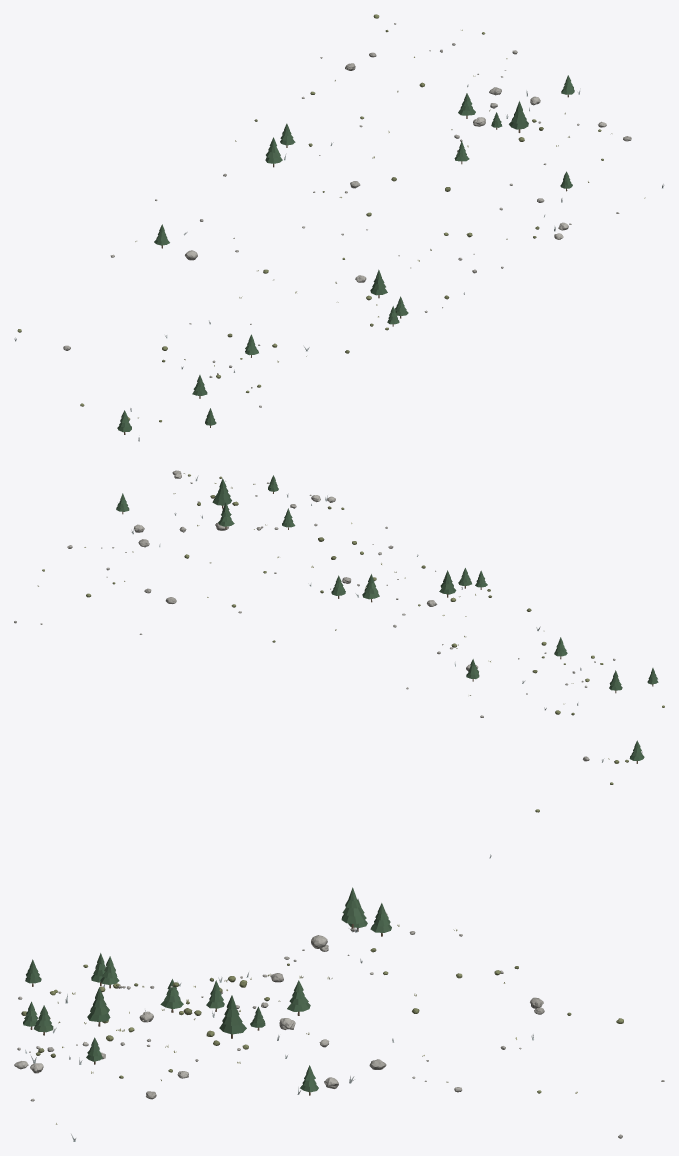
The model's file is coast_land_scatter_c10_15.glb.
The picture shows the model from 3 angles, top to bottom: view 1: azimuth 30°, elevation 25°; view 2: azimuth 150°, elevation 25°; view 3: azimuth 270°, elevation 25°; orthographic projection. The views are drawn at different scales.
Parts seen in each view (by area): view 1: coast_land_scatter_c10_15; view 2: coast_land_scatter_c10_15; view 3: coast_land_scatter_c10_15.
Part boxes in pixels (box(x1,y1,x2,y2)): coast_land_scatter_c10_15: box(14, 14, 664, 441); coast_land_scatter_c10_15: box(14, 470, 664, 858); coast_land_scatter_c10_15: box(14, 887, 664, 1141).
Size of the model in its own units: 255 by 107 by 205.
